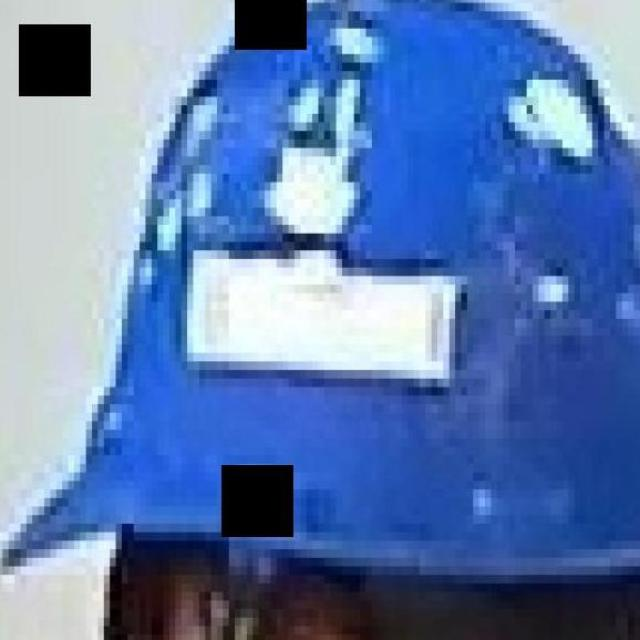blue helmet: (2, 1, 640, 608)
